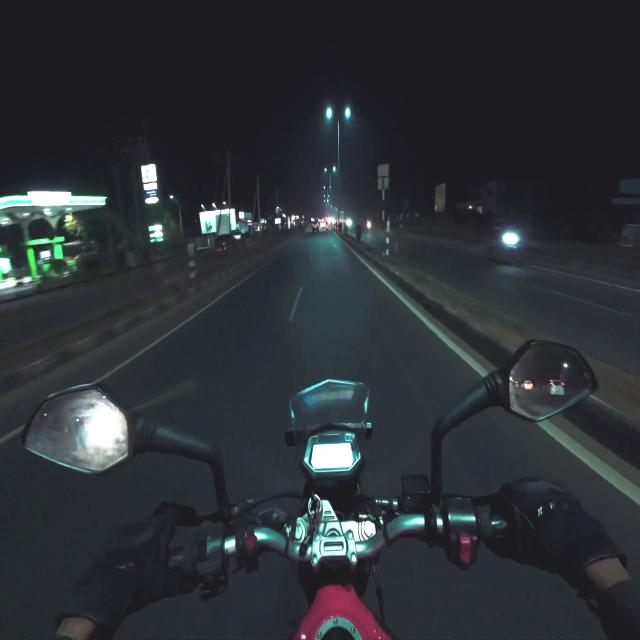car: (215, 234, 237, 253), (549, 380, 565, 395), (312, 221, 319, 232)
motorcycle: (22, 341, 596, 639)
